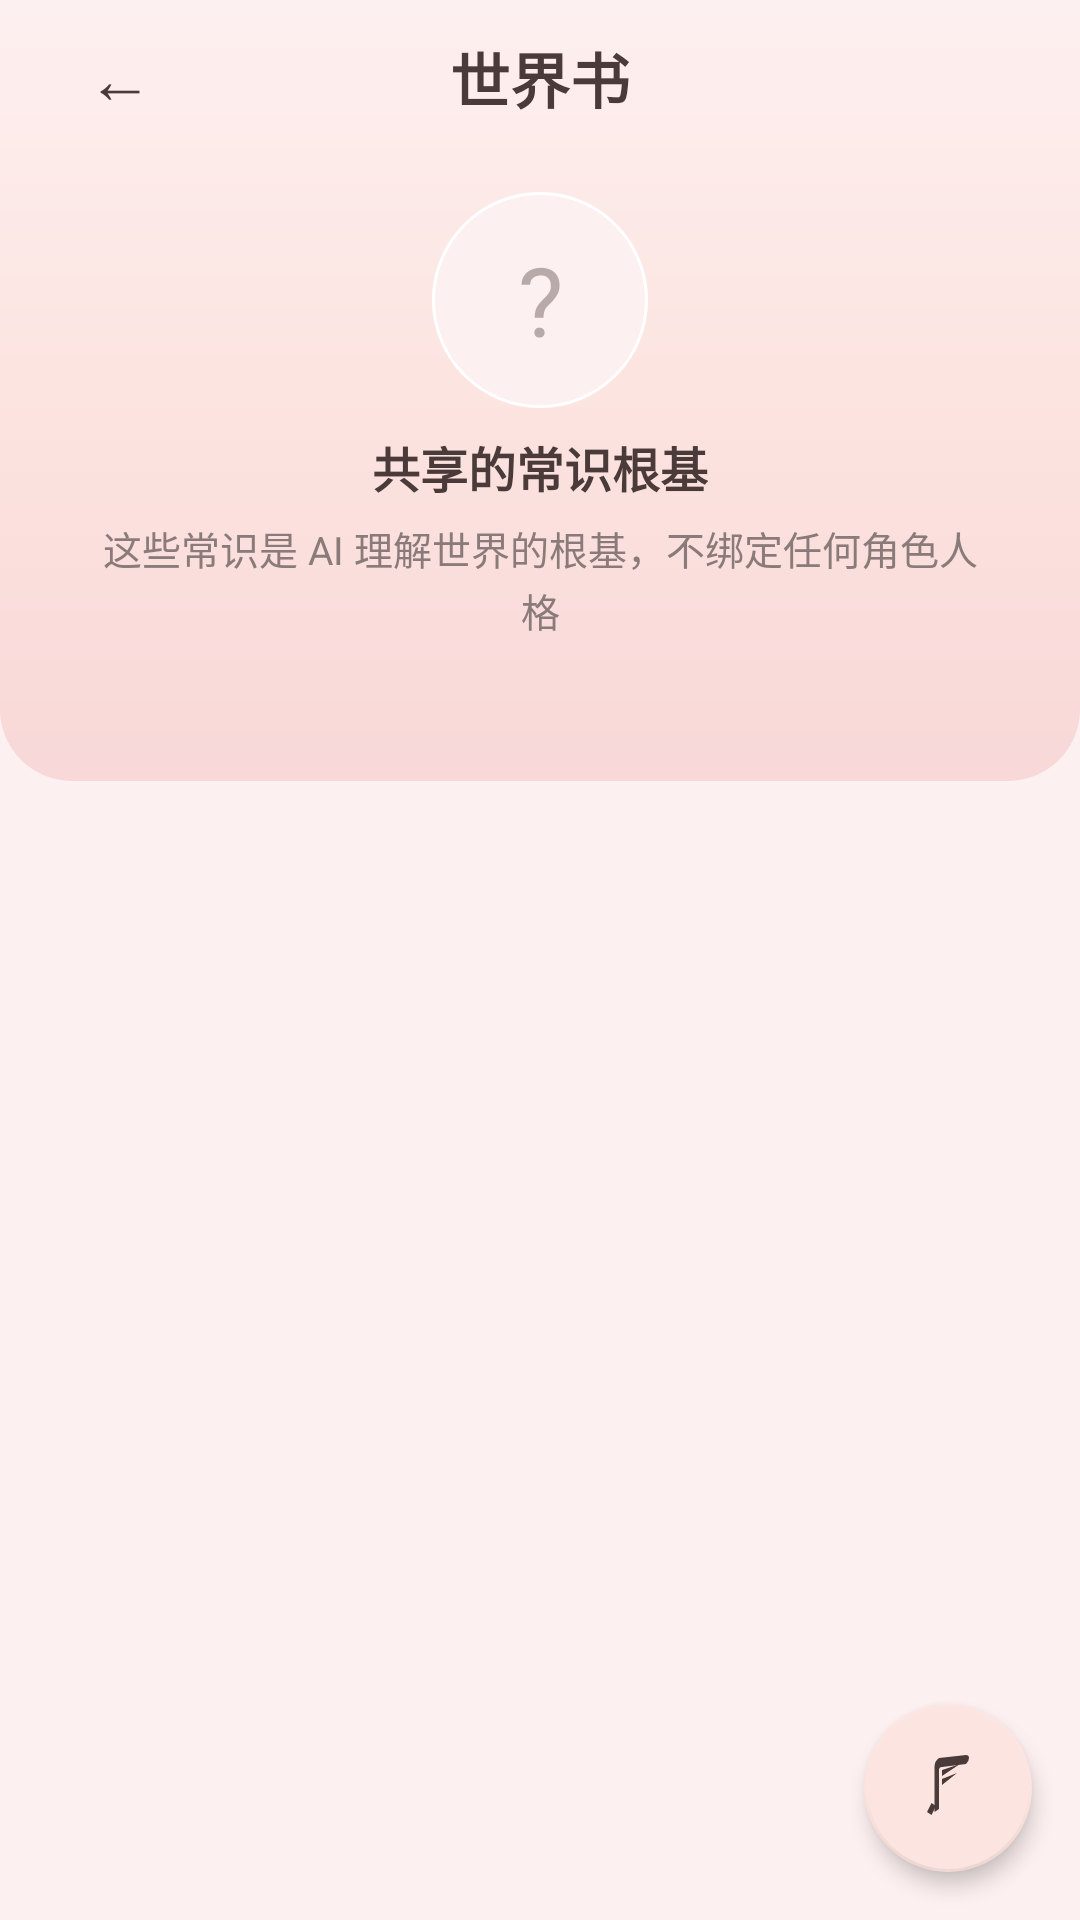

Named icons in this screenshot (1080*1920) and their bounding boxes, (x1, y1, x2, y2):
新增常识条目: (864, 1704, 1032, 1872)
